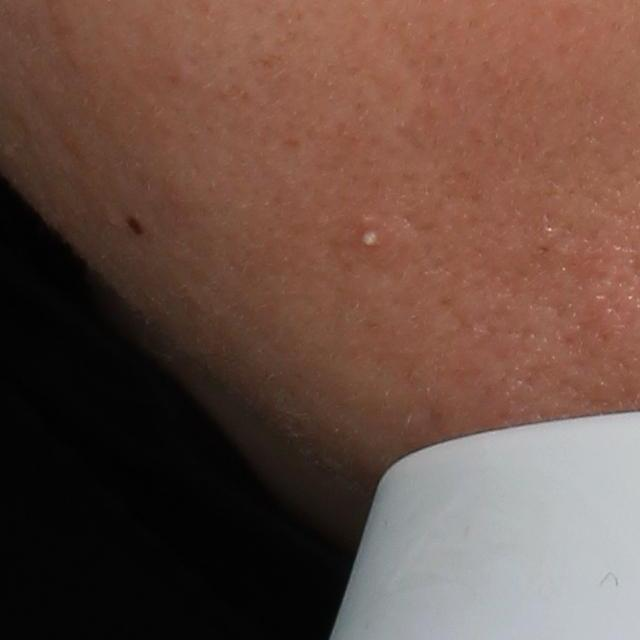nevus: (122, 209, 149, 240)
pustule: (349, 222, 387, 260)
